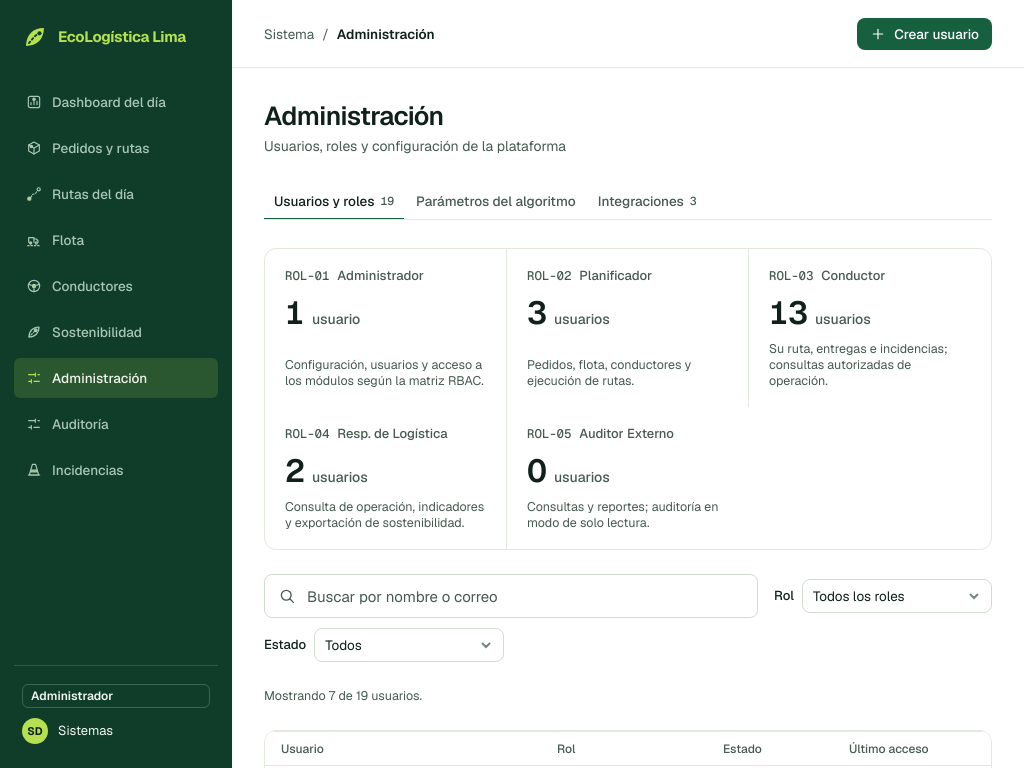
Scenario: AdminView · parámetros del algoritmo › muestra los valores de arranque con etiqueta visible y una pista por ajuste
Click the tab "Parámetros del algoritmo": (496, 202) [406,184,586,220]
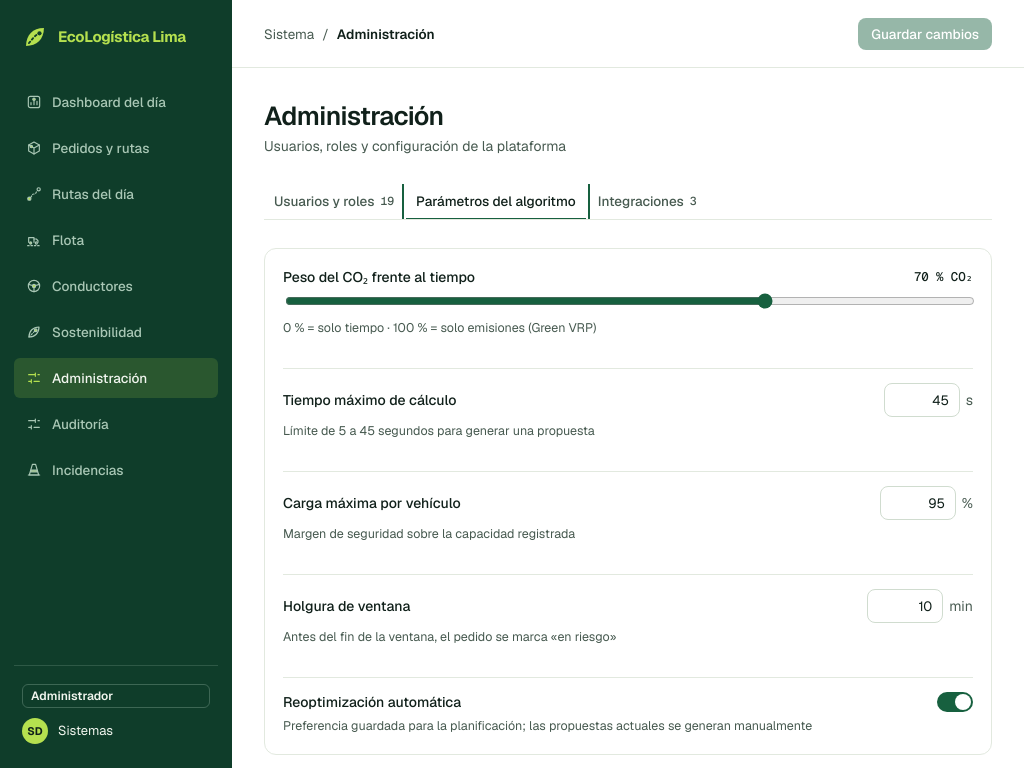
Check: the slider labelled "Peso del CO₂ frente al tiempo" holds "70", box [285,293,975,309]
Check: the text "70 % CO₂" is shown, box [914,268,973,286]
Check: the field named "Tiempo máximo de cálculo en segundos" holds "45", box [884,383,960,417]
